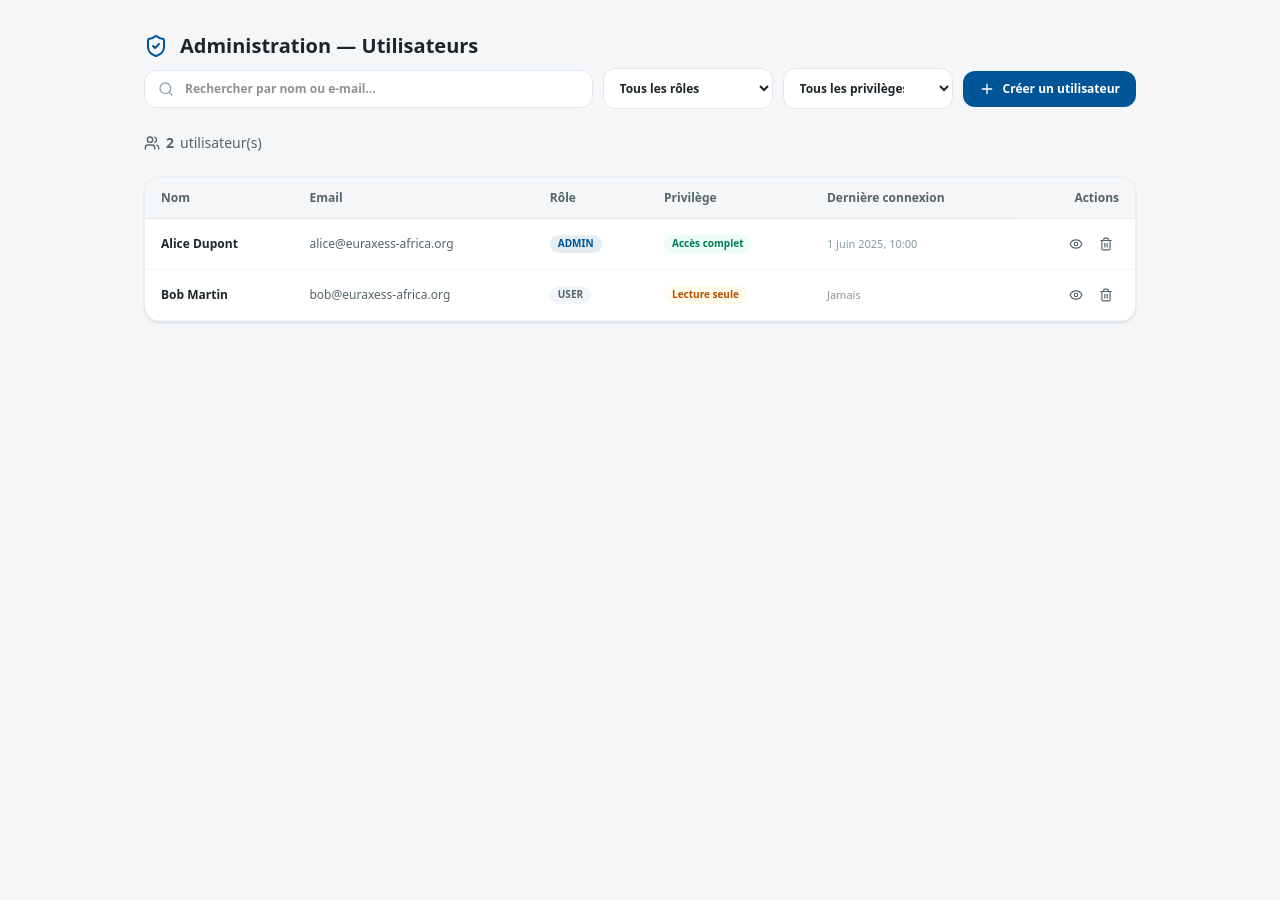
Scenario: AdminView › warns and refuses to create a user whose email already exists
Click the button "Créer un utilisateur": (1049,88) [963,70,1136,106]
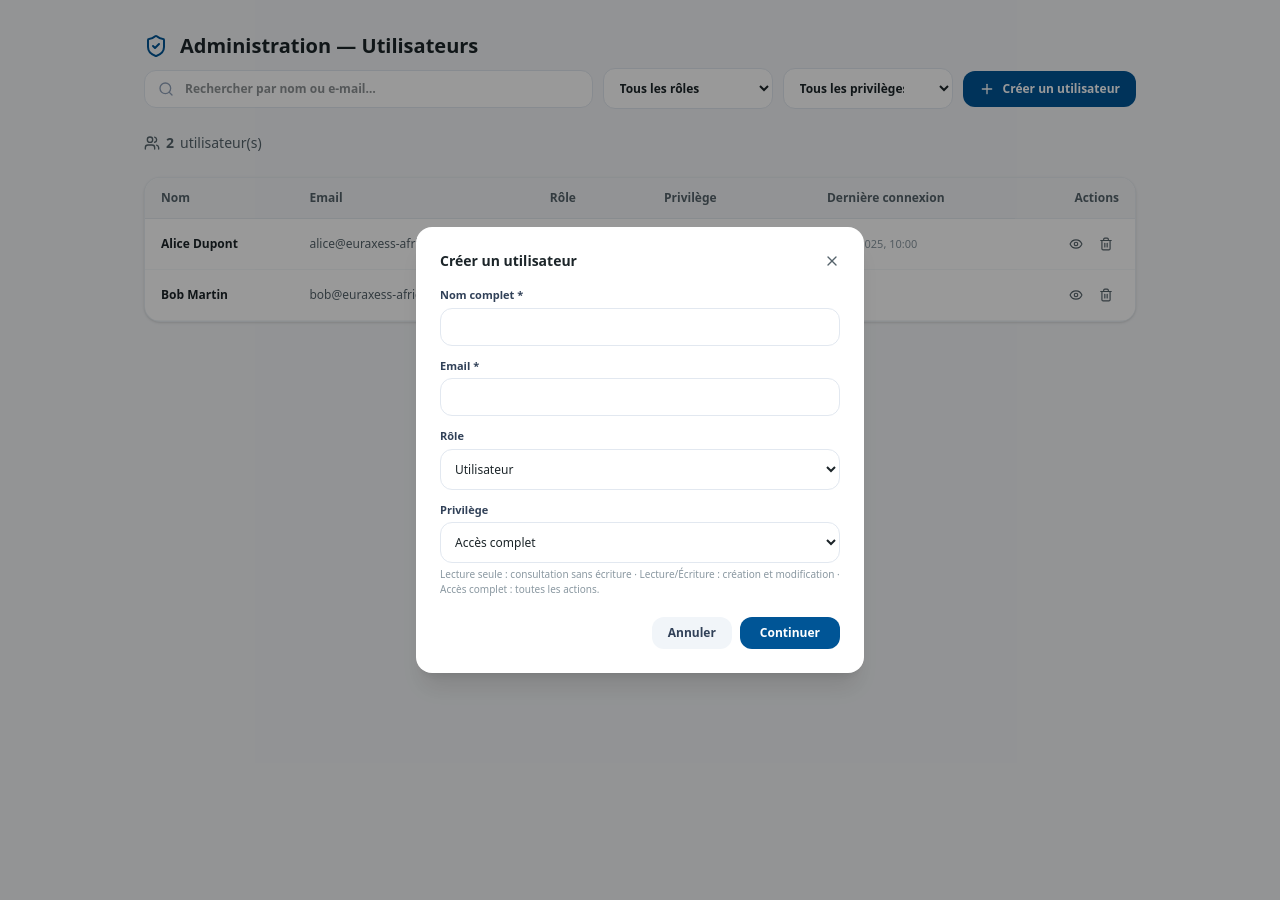
In the field labelled "Nom complet *": (640,326) [440,308,840,346], type "Alice Dupont"
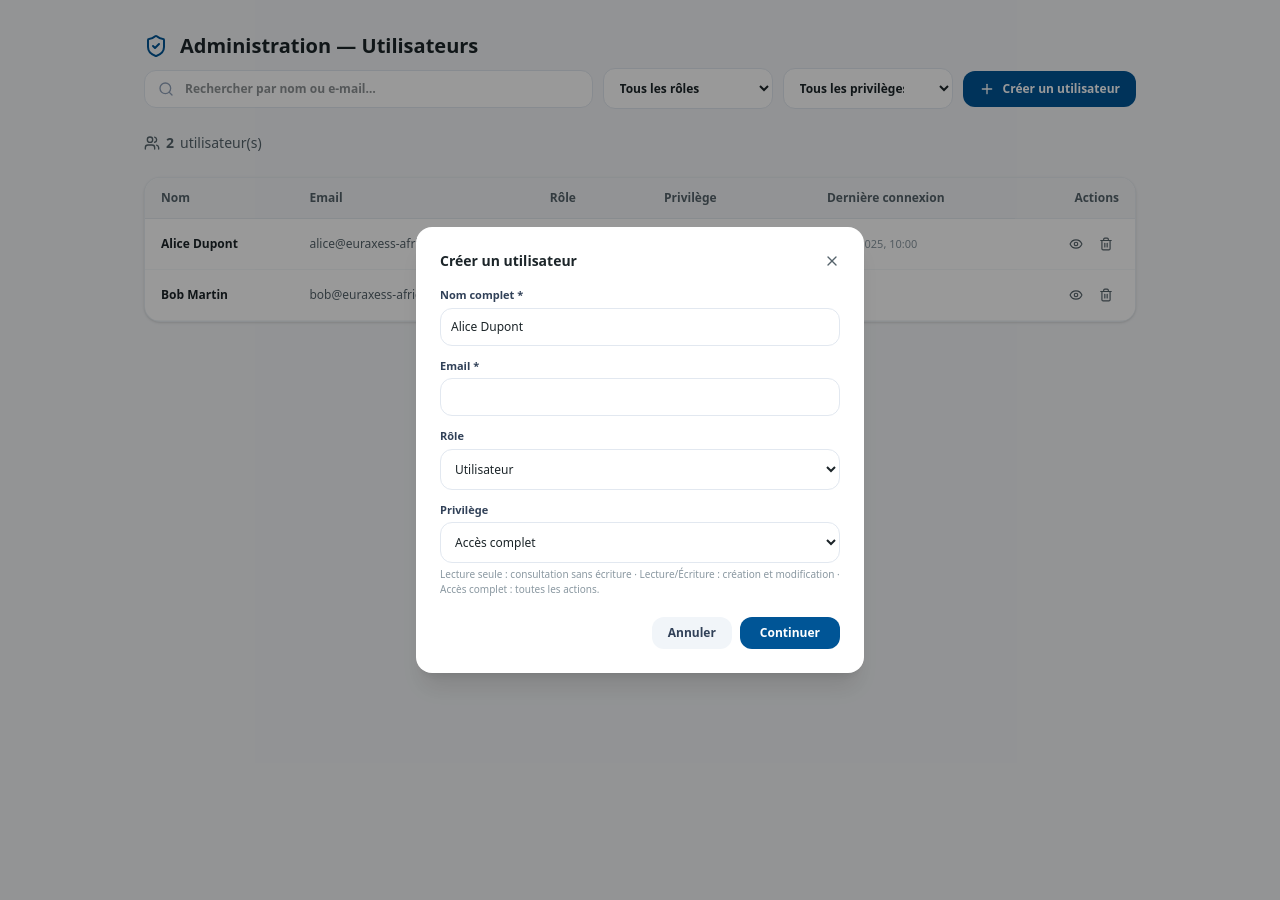
In the field labelled "Email *": (640,397) [440,378,840,416], type "alice@euraxess-africa.org"
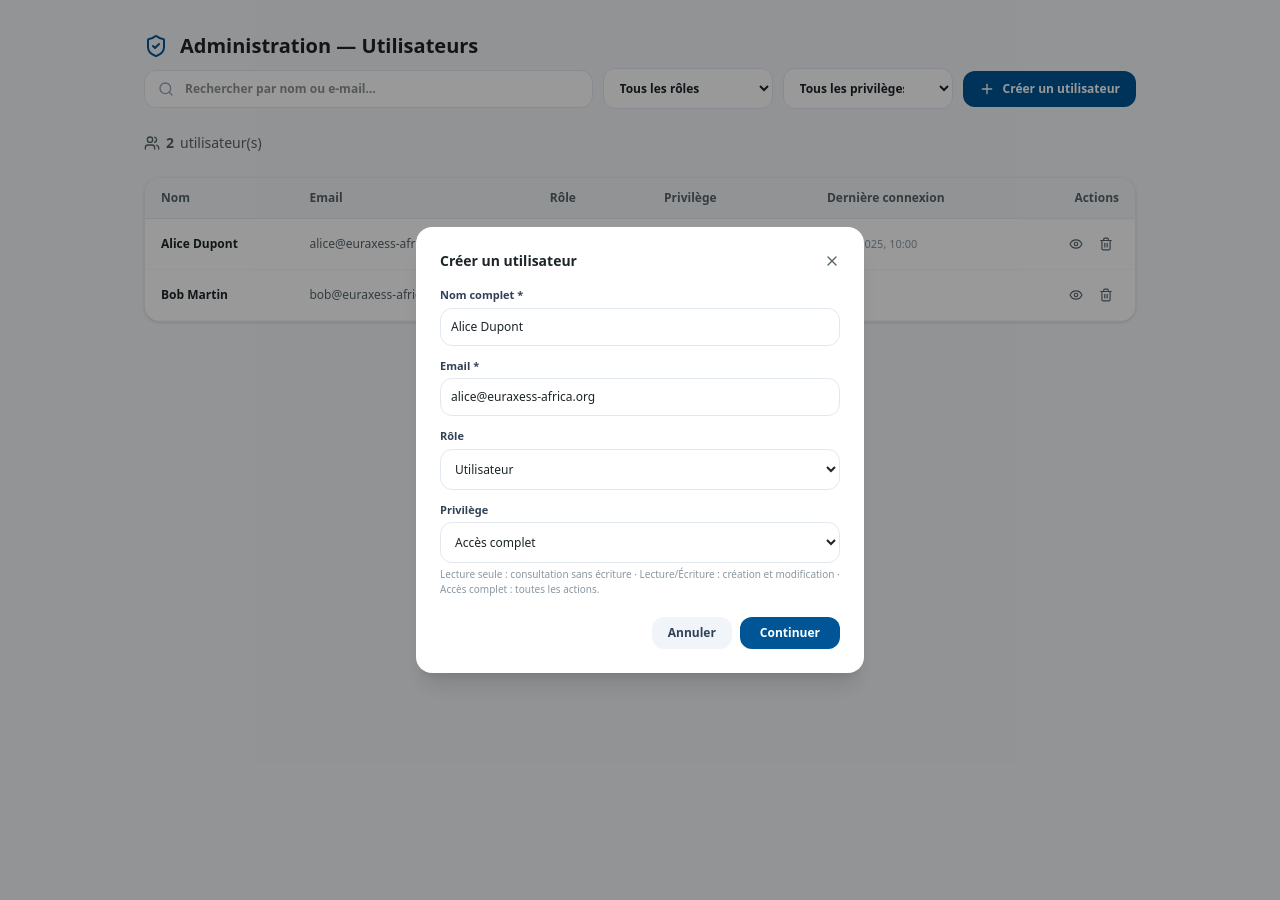
Click the button "Continuer": (790,633) [740,617,840,649]
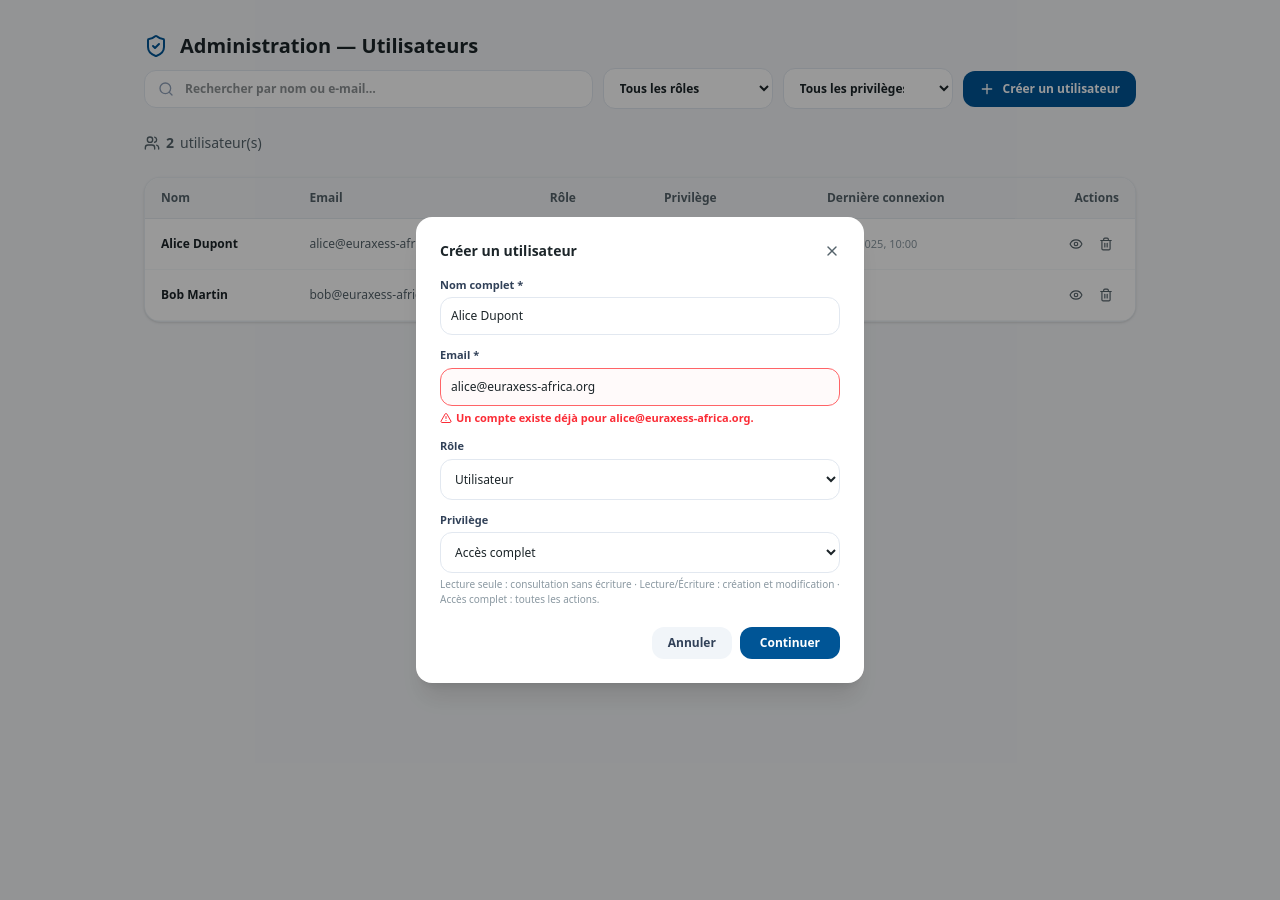
Result: the text "Un compte existe déjà pour alice@euraxess-africa.org." is shown at [440,410,754,425]
